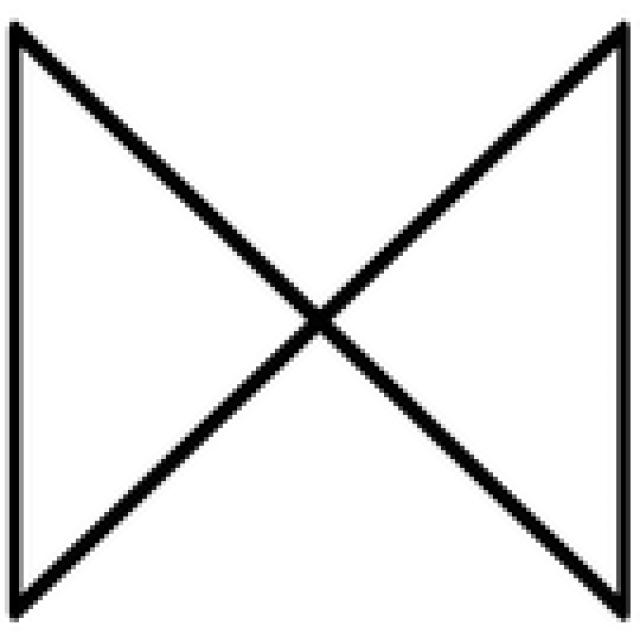Gate valve: (12, 34, 323, 606), (326, 29, 624, 610)
